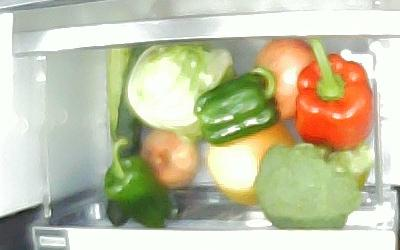apple: (254, 38, 316, 120)
broccoli: (255, 141, 375, 229)
cucumber: (116, 47, 147, 156), (105, 48, 131, 157)
grapefruit: (207, 120, 293, 205)
lettuce: (128, 39, 231, 141)
paprika: (295, 38, 372, 149), (194, 67, 281, 146), (104, 135, 175, 229)
peach: (140, 129, 199, 190)
